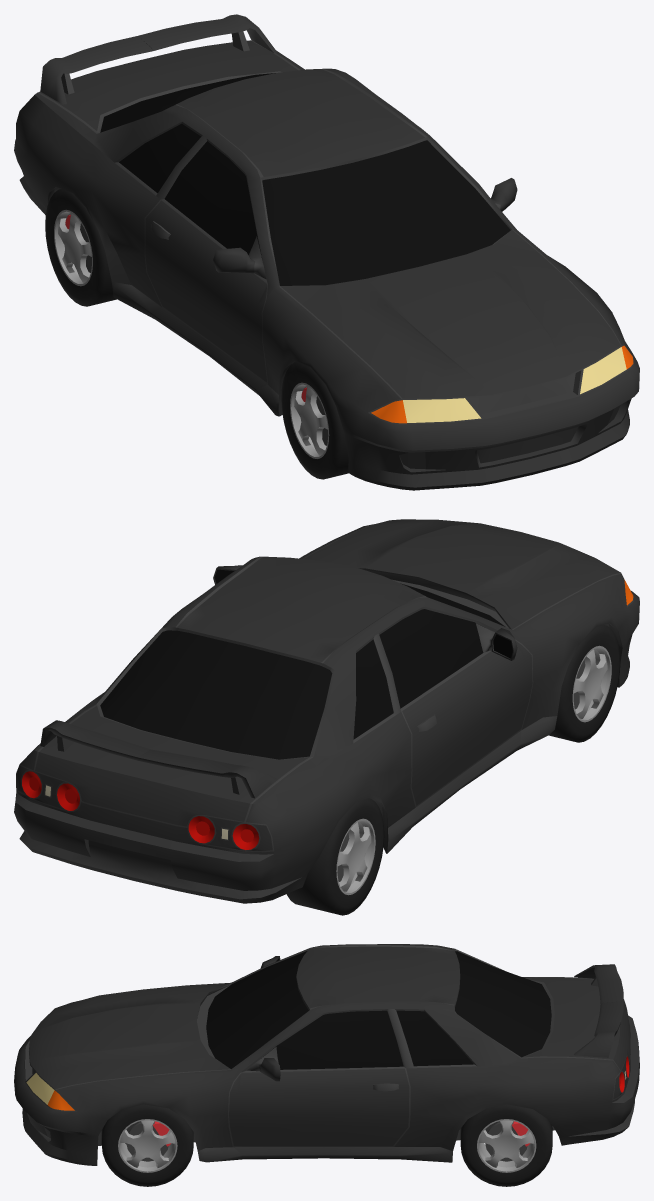
The picture shows the model from 3 angles, top to bottom: view 1: azimuth 30°, elevation 25°; view 2: azimuth 150°, elevation 25°; view 3: azimuth 270°, elevation 25°; orthographic projection. The views are drawn at different scales.
Parts seen in each view (by area): view 1: Body, Tire_FR, Tire_RR, Spoiler; view 2: Body, Tire_RR, Tire_FR, Spoiler; view 3: Body, Tire_RL, Tire_FL, Spoiler, Disk_RL, Disk_FL.
Part boxes in pixels (bbox=[...]): Body: bbox=[14, 40, 639, 490]; Tire_FR: bbox=[281, 362, 348, 479]; Tire_RR: bbox=[45, 189, 116, 306]; Spoiler: bbox=[40, 14, 276, 104]; Body: bbox=[14, 519, 639, 903]; Tire_RR: bbox=[286, 798, 384, 915]; Tire_FR: bbox=[549, 625, 620, 742]; Spoiler: bbox=[40, 720, 276, 798]; Body: bbox=[14, 944, 639, 1165]; Tire_RL: bbox=[460, 1104, 552, 1186]; Tire_FL: bbox=[101, 1104, 193, 1186]; Spoiler: bbox=[574, 964, 623, 1057]; Disk_RL: bbox=[485, 1121, 529, 1161]; Disk_FL: bbox=[126, 1121, 170, 1161].
Bounding box in the file's own units: 1.31 × 0.899 × 3.1.
1 material, 1 textured.
